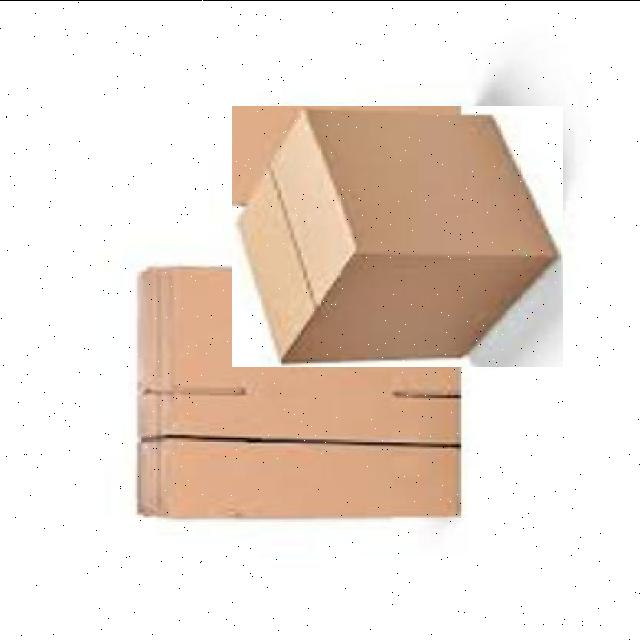normal: (232, 105, 563, 366)
